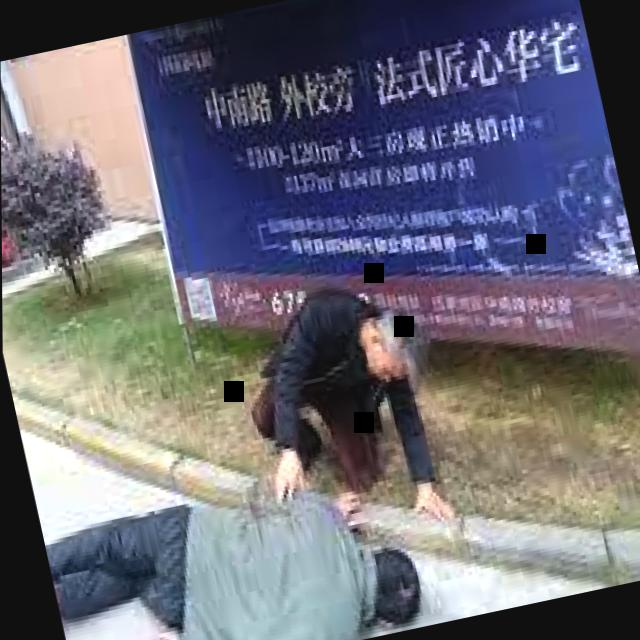Fall-Detected: (33, 425, 432, 640)
